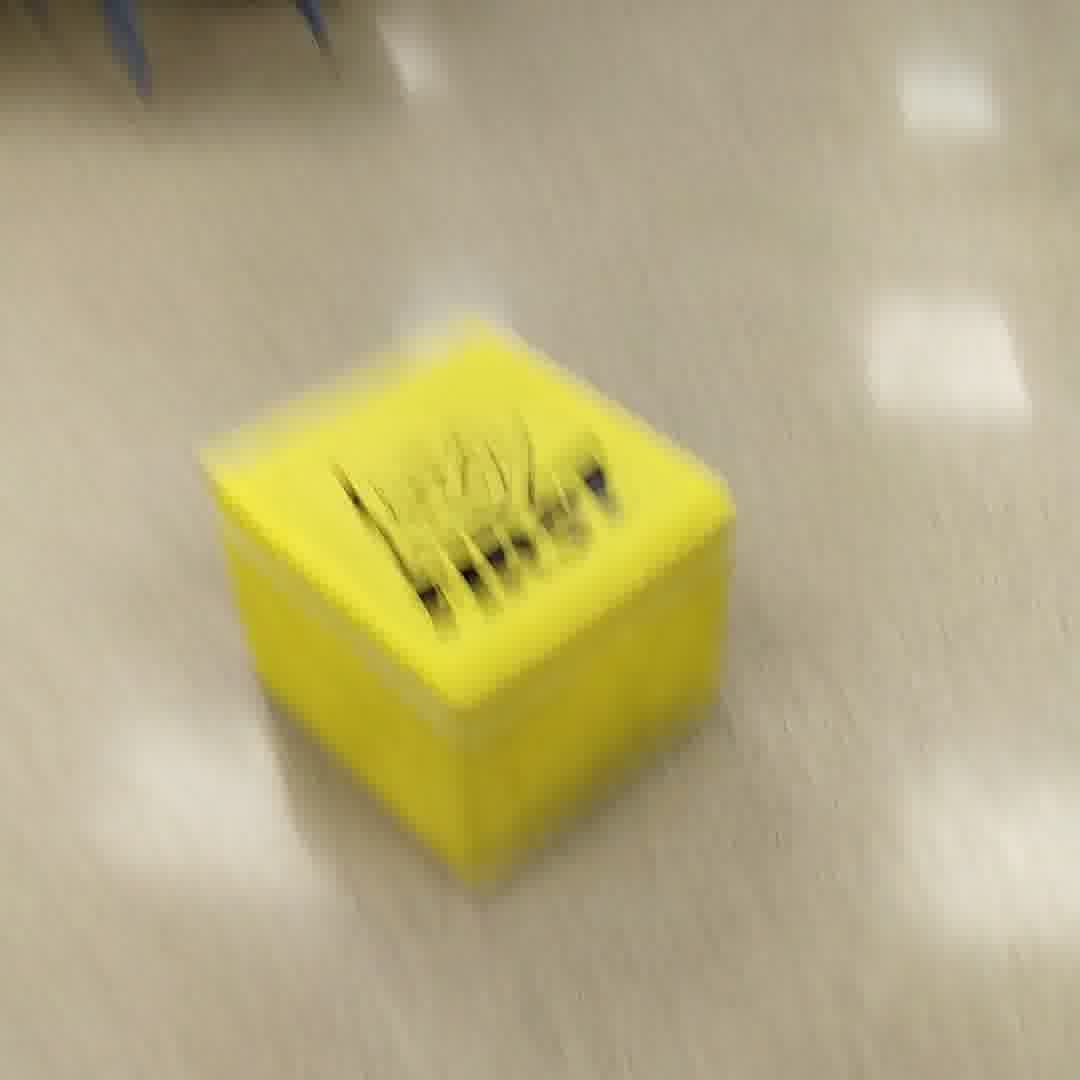box: (179, 328, 745, 899)
